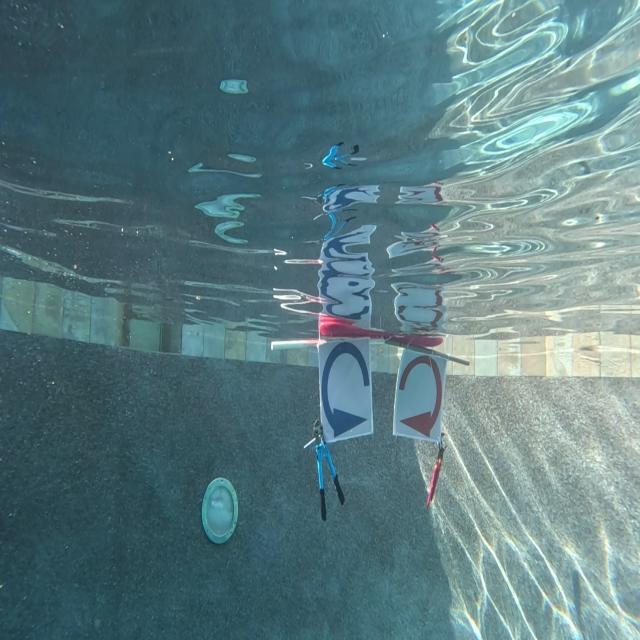blue_side: (322, 343, 373, 438)
red_side: (394, 349, 442, 438)
